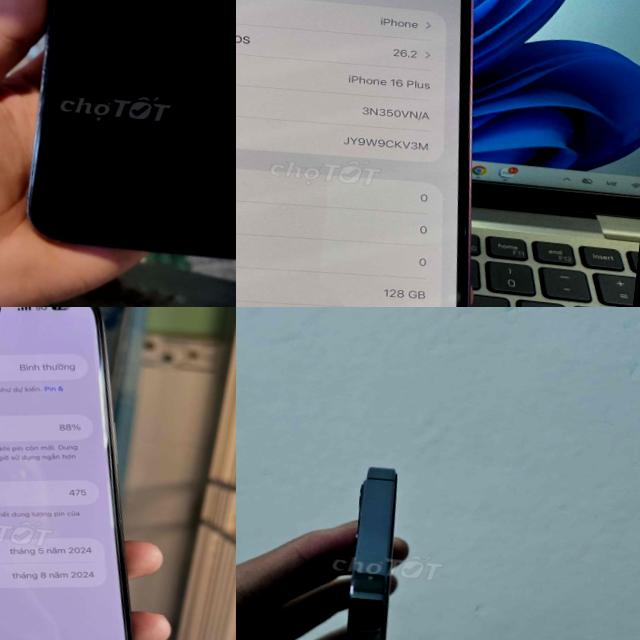gen_12_13: (310, 446, 441, 640)
gen_14: (0, 0, 236, 271)
gen_15: (0, 307, 212, 640)
gen_16: (236, 0, 527, 307)
